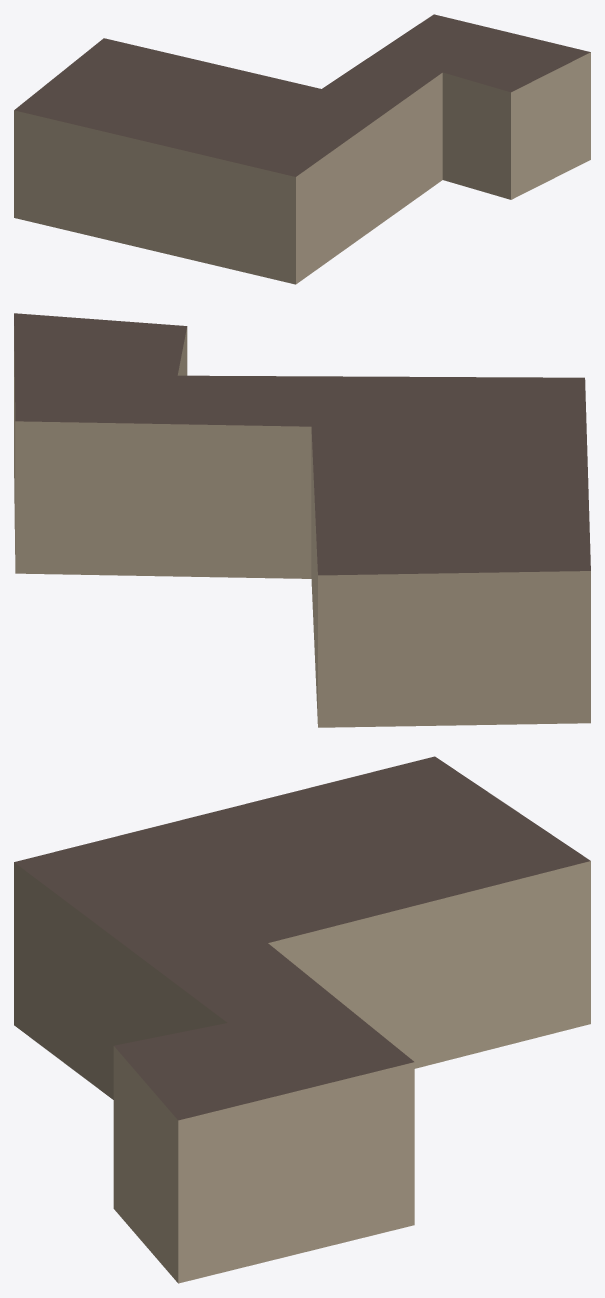
The picture shows the model from 3 angles, top to bottom: view 1: azimuth 30°, elevation 25°; view 2: azimuth 150°, elevation 25°; view 3: azimuth 270°, elevation 25°; orthographic projection. The views are drawn at different scales.
Visible parts, largest first — view 1: HP-w1516161934; view 2: HP-w1516161934; view 3: HP-w1516161934.
Part boxes in pixels (left/top/right/bottom): HP-w1516161934: left=14, top=14, right=590, bottom=284; HP-w1516161934: left=14, top=313, right=590, bottom=727; HP-w1516161934: left=14, top=756, right=590, bottom=1283.
Bounding box in the file's own units: 43.1 × 9 × 28.86.
